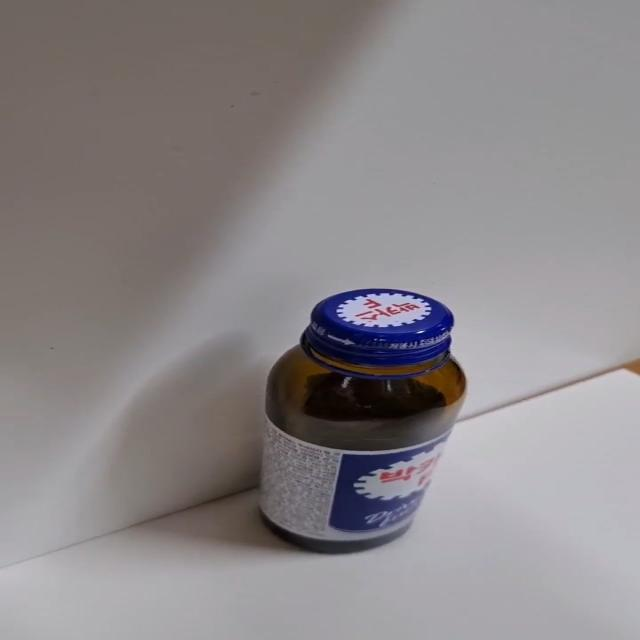Glass: (257, 288, 468, 556)
